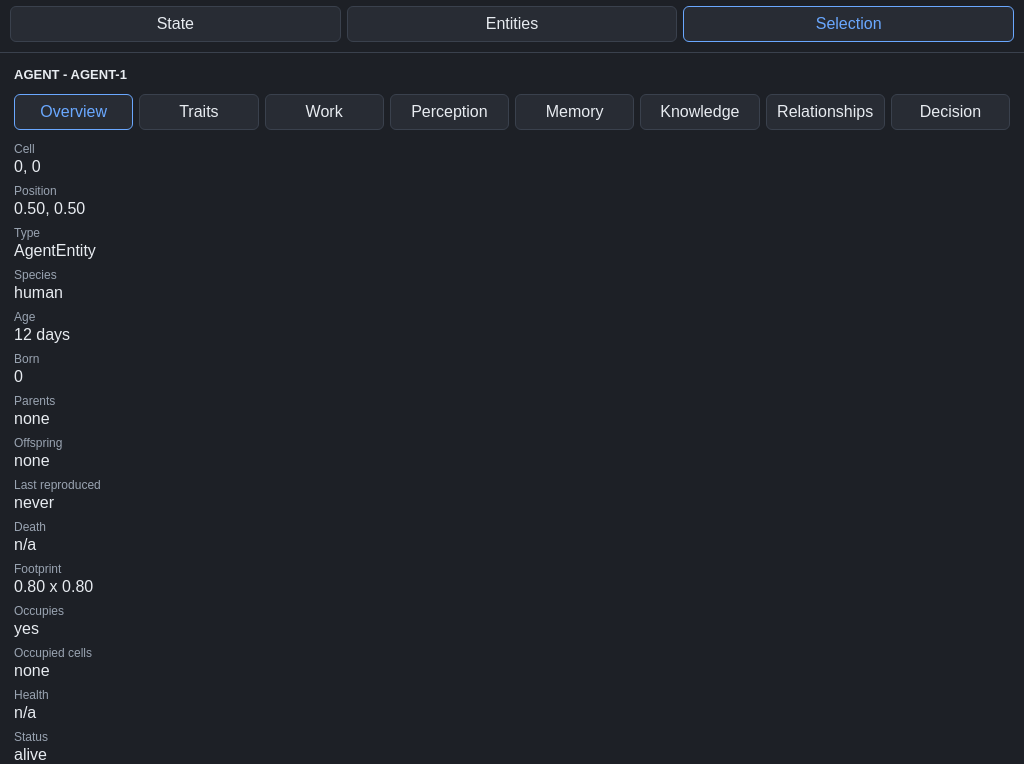
Scenario: Inspector › renders selected agent decision scores and learned outcomes
Click the button "Decision" at (950, 112), box [891,94,1010,130]
(page scrolled)
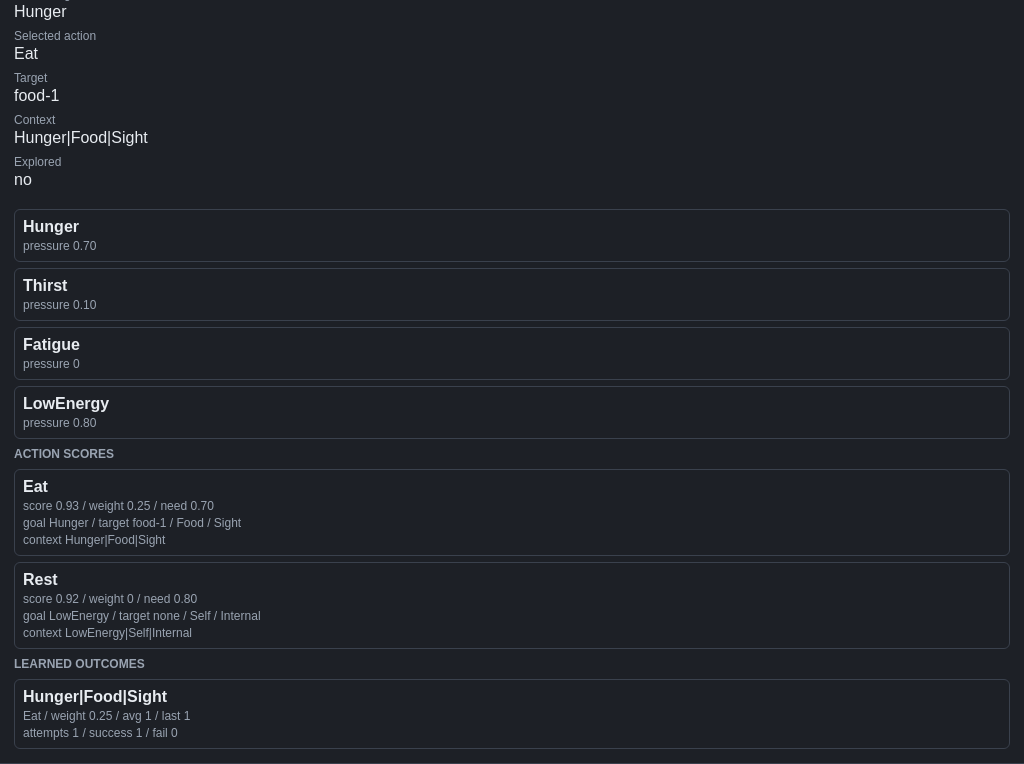
Now the text "score 0.93 / weight 0.25 / need 0.70" is shown, box [23,499,214,513]
Now the text "Learned outcomes" is shown, box [14,657,145,671]
Now the text "Eat / weight 0.25 / avg 1 / last 1" is shown, box [23,709,190,723]
